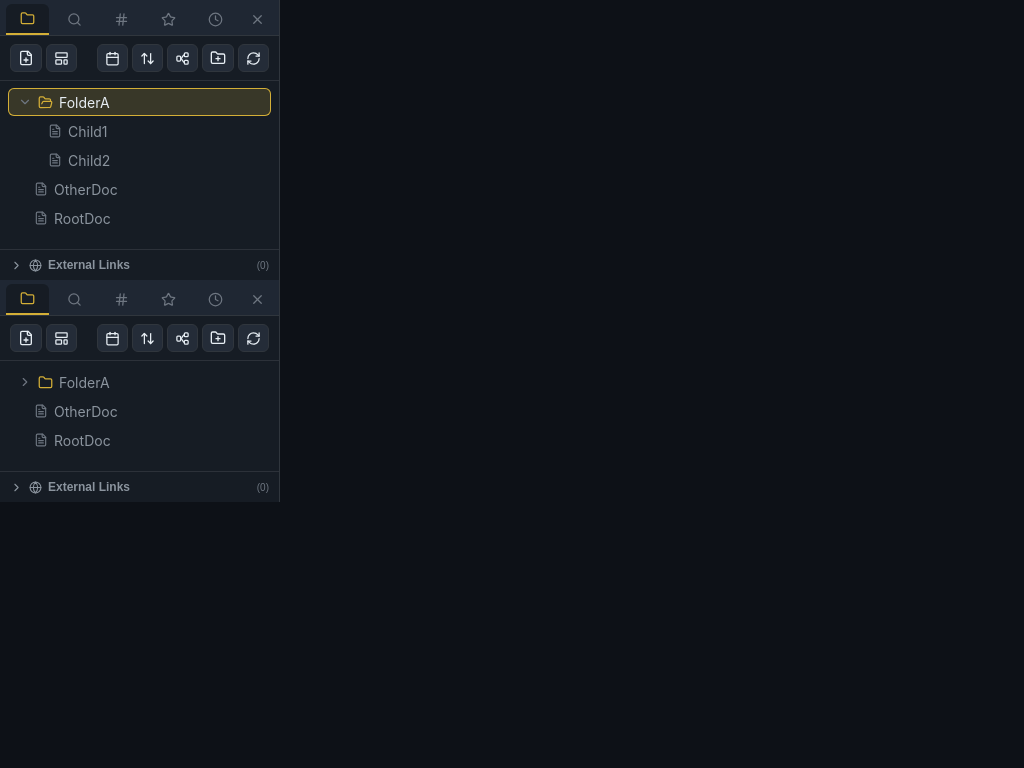
FileSidebar Multi-Select & Selection Logic › 2. normal click on a file resets any previous multi-selection to exactly that single file
Click the element with class "tree-label". click: (72, 440)
box: [34, 432, 111, 448]
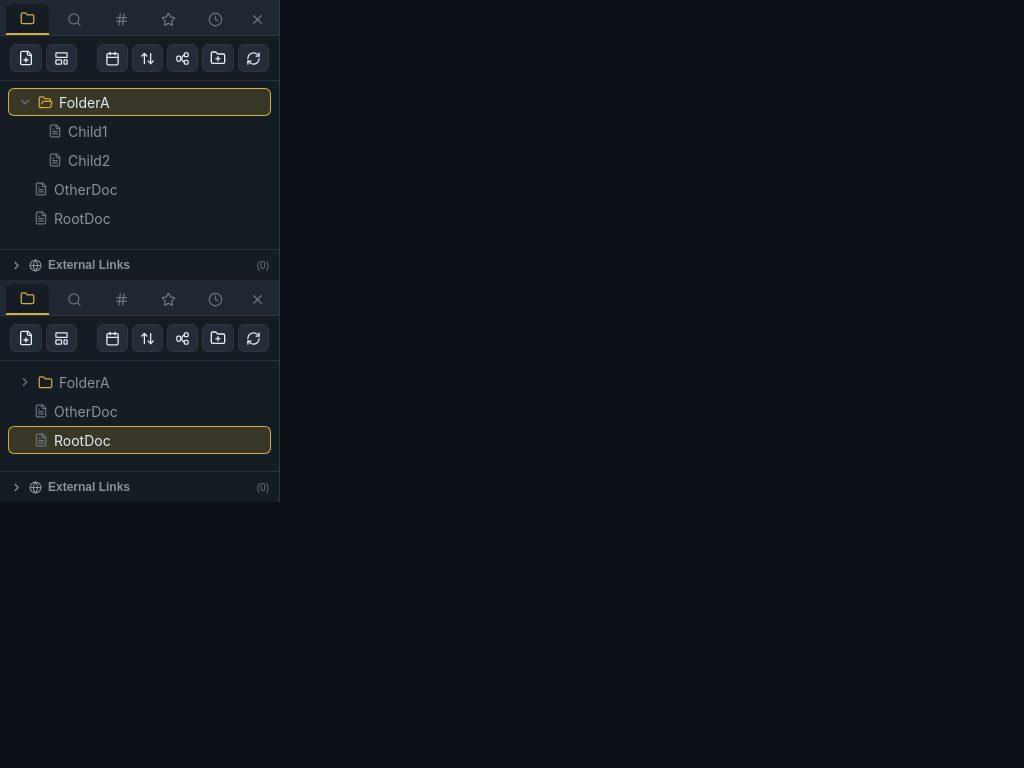
Expected: the element with class "tree-label" has class "is-selected", [8, 426, 271, 454]
Click the element with class "tree-label". click: (76, 411)
box: [34, 402, 118, 420]
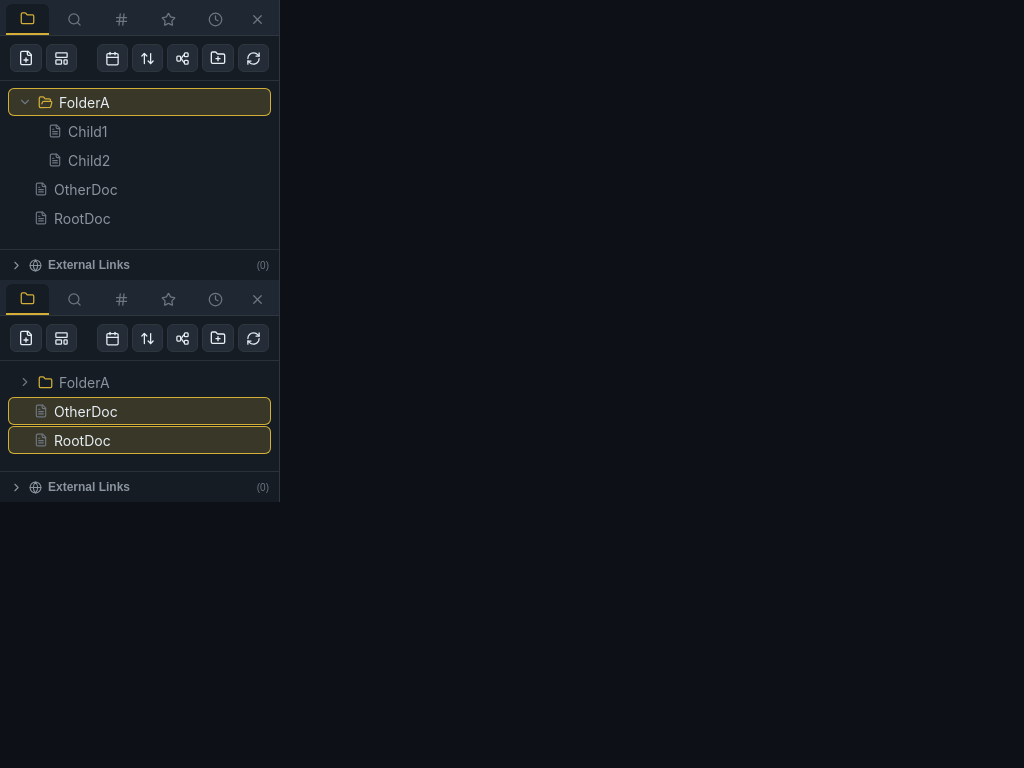
Expected: the element with class "tree-label" has class "is-selected"
Click the element with class "tree-label". click: (140, 440)
box: [8, 426, 271, 454]
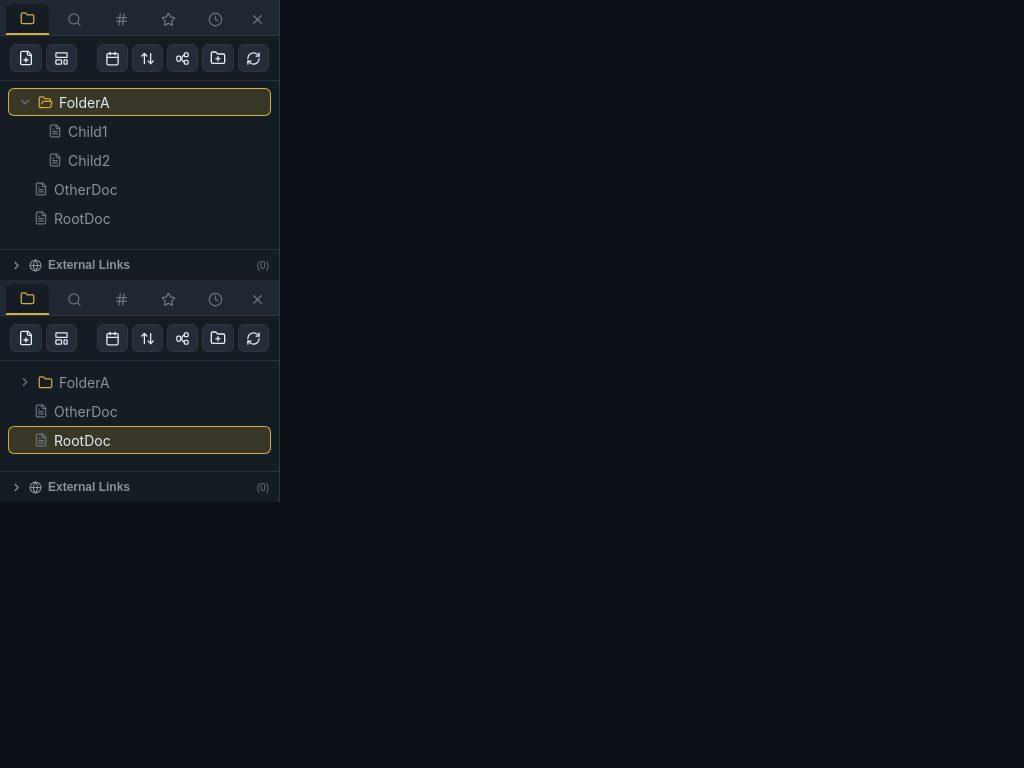
Expected: the element with class "tree-label" has class "is-selected", [8, 426, 271, 454]
Expected: the element with class "tree-label" does not have class "is-selected", [34, 402, 118, 420]
